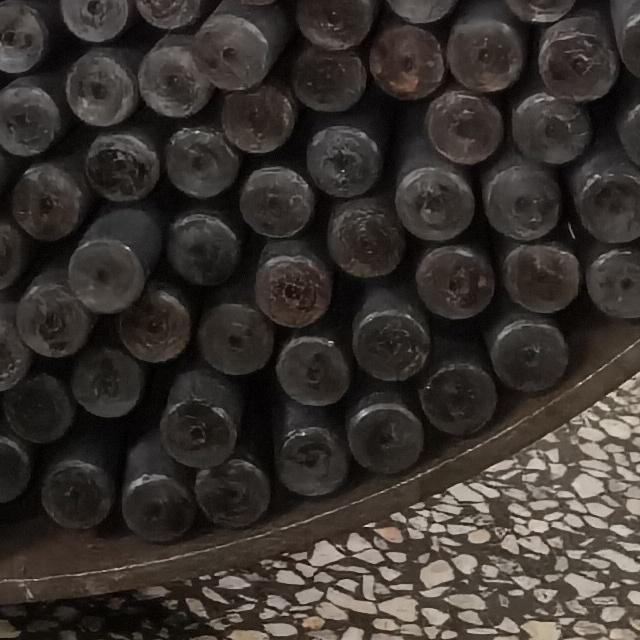tool: (250, 232, 334, 326), (536, 4, 616, 100), (561, 150, 638, 247), (480, 156, 564, 242), (445, 3, 524, 93), (114, 278, 194, 363), (14, 276, 94, 360), (421, 87, 506, 164), (191, 10, 272, 90), (12, 155, 86, 241), (510, 88, 594, 163), (63, 47, 141, 126), (328, 195, 404, 276), (414, 242, 494, 318), (192, 452, 269, 529), (370, 21, 446, 99), (81, 128, 159, 204), (396, 166, 474, 240), (491, 323, 574, 391), (138, 43, 212, 119), (72, 343, 147, 417), (195, 302, 272, 374), (504, 243, 580, 315), (237, 168, 315, 238), (165, 126, 240, 198), (222, 83, 296, 154), (274, 333, 348, 404), (71, 238, 140, 314), (0, 73, 62, 156), (0, 370, 72, 440), (308, 131, 382, 199), (359, 312, 431, 379), (168, 220, 240, 287), (351, 406, 422, 472), (420, 369, 493, 432), (0, 0, 63, 70), (126, 477, 193, 542), (43, 462, 108, 528), (278, 434, 349, 494), (587, 240, 640, 320), (291, 54, 364, 112), (163, 404, 234, 463), (300, 0, 373, 49), (0, 435, 34, 527), (0, 280, 28, 389), (130, 1, 220, 34), (61, 0, 129, 39), (375, 1, 495, 22), (0, 212, 24, 300), (492, 0, 592, 21), (617, 0, 640, 87)
